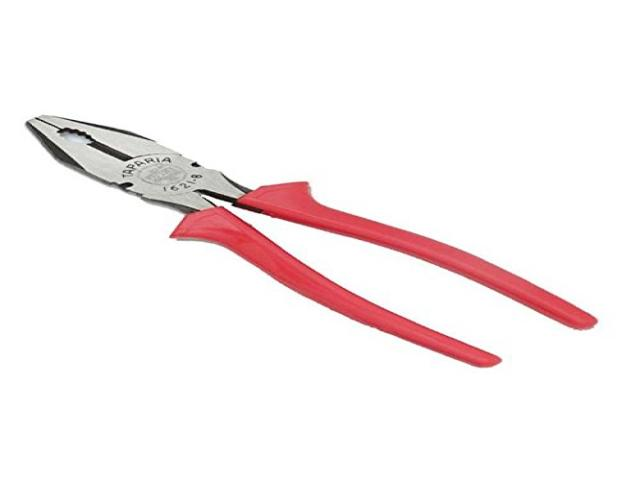Pliers: (28, 115, 598, 366)
